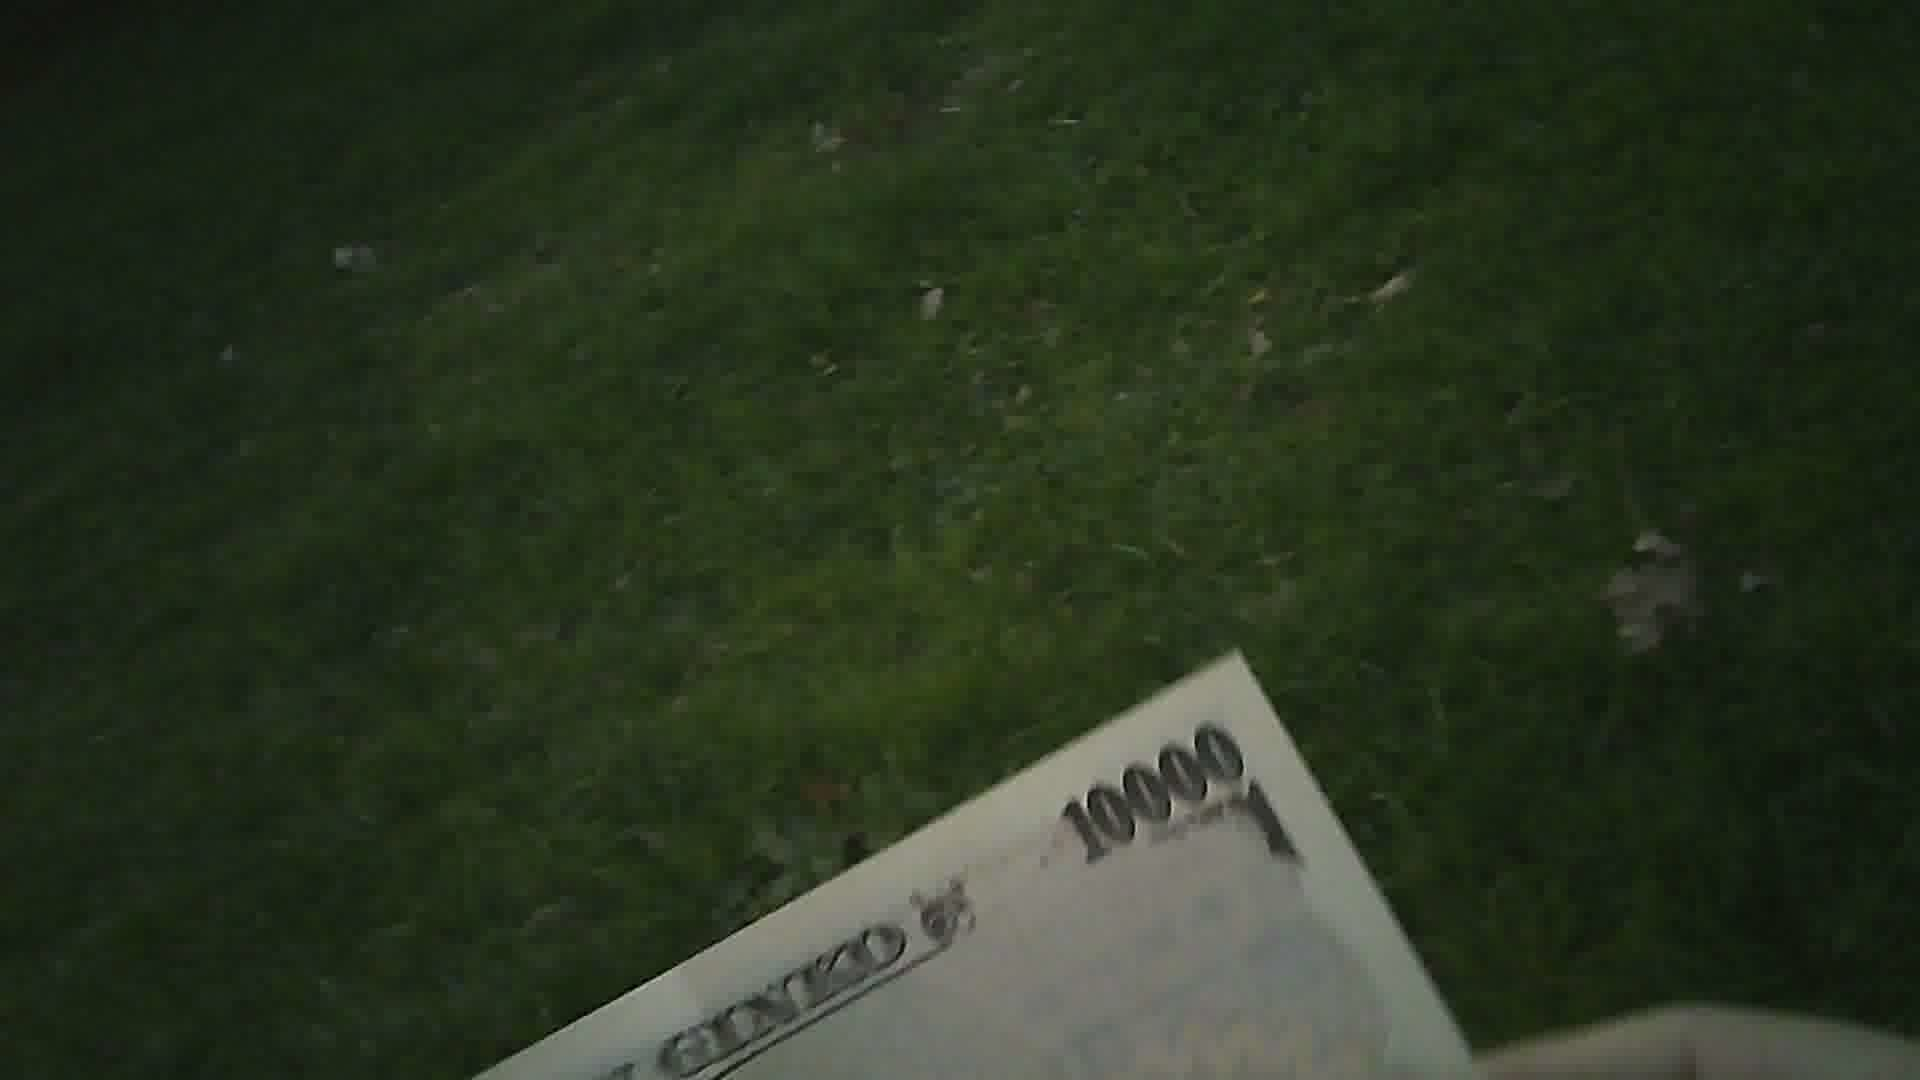10,000 Yen: (501, 622, 1507, 1079)
